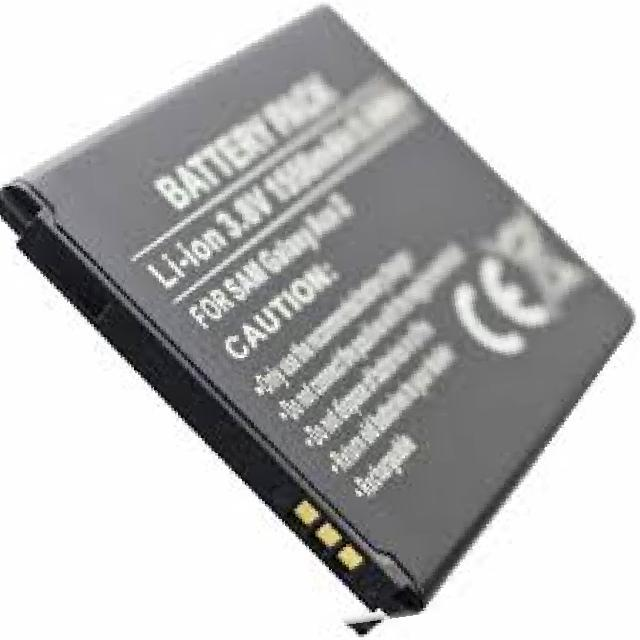Battery: (0, 0, 639, 622)
